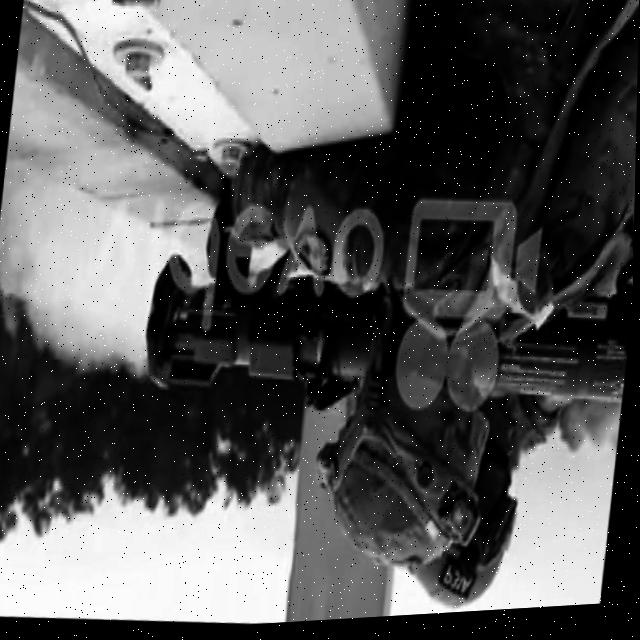rocket: (146, 226, 636, 429)
